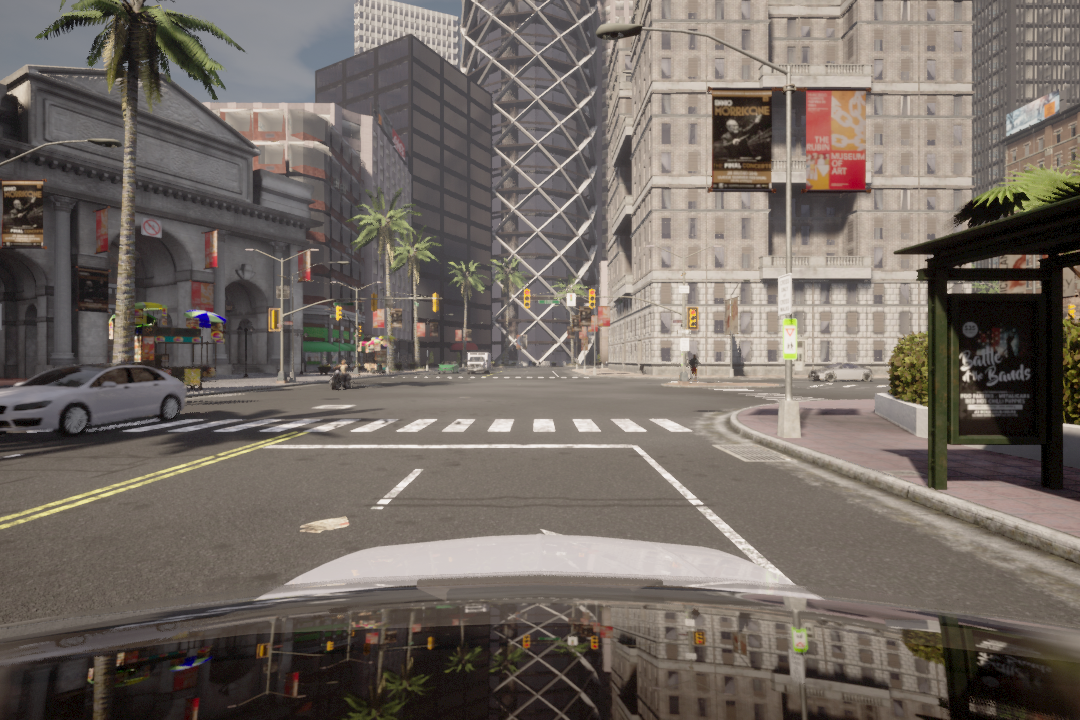TrafficLight: (686, 307, 702, 328), (521, 287, 534, 312), (589, 289, 596, 310)
TrafficSign: (143, 217, 163, 236)
walkside: (77, 407, 700, 439)
